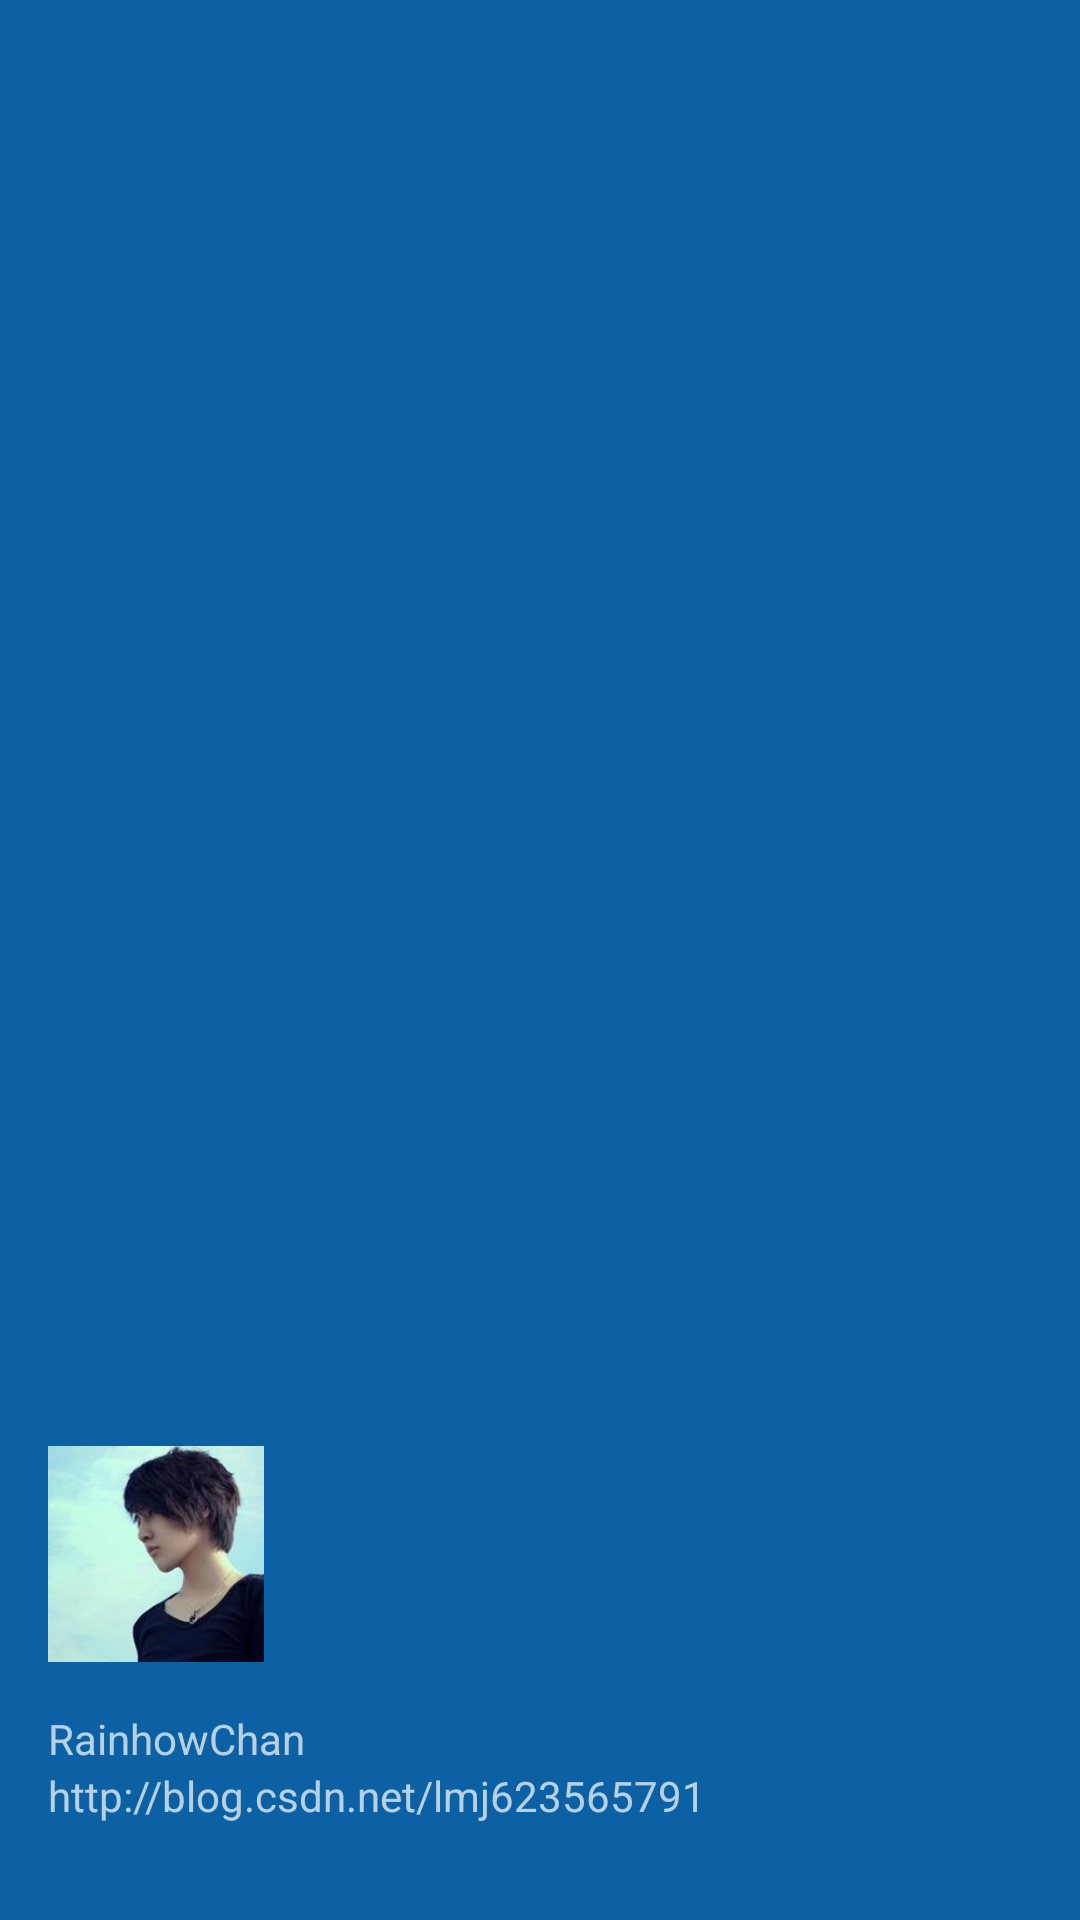

Icons on this 1080px×1920px Android screen, each with its box as (x1,y1,x2,y2):
avator: (48,1446,264,1662)
